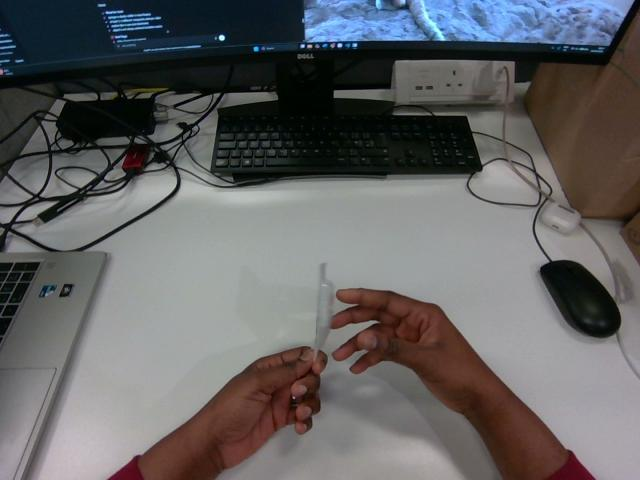gauze: (314, 263, 333, 359)
